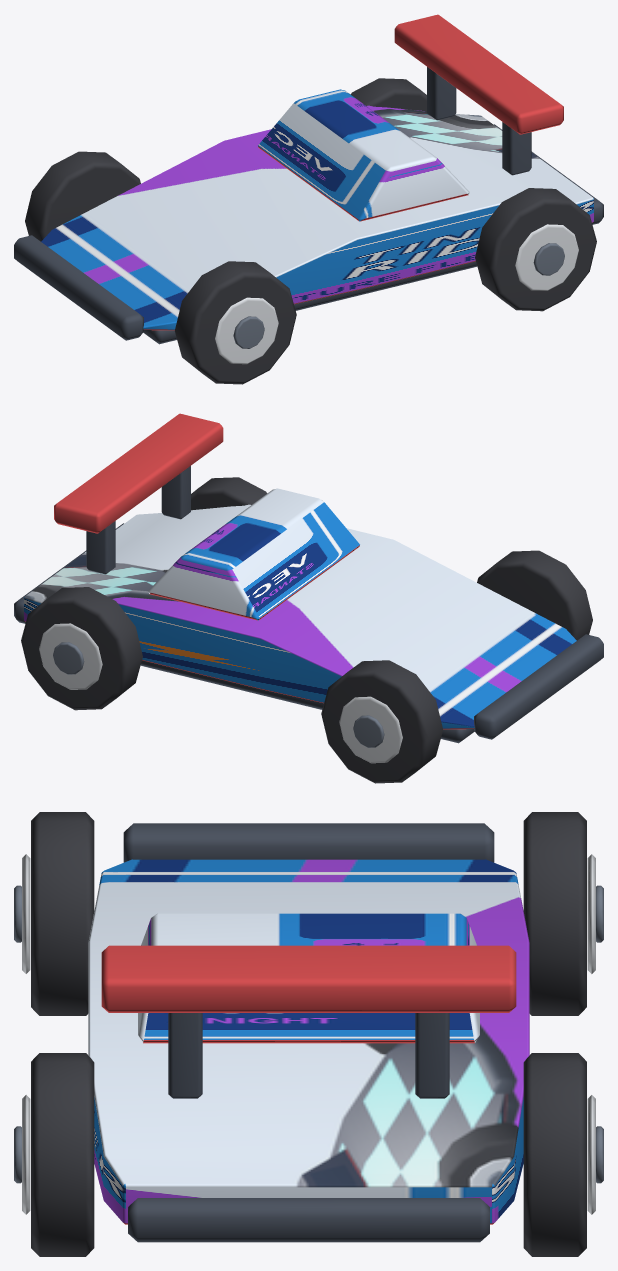
3 renders of one model, top to bottom at view 1: azimuth 30°, elevation 25°; view 2: azimuth 150°, elevation 25°; view 3: azimuth 270°, elevation 25°, orthographic. The views are drawn at different scales.
Parts seen in each view (by area): view 1: FF-05_connected_shell, FF-05_cabin, rear airfoil, Tire.002, Tire, Tire.001, front bumper, Rim.002, Rim, Tire.003, underbody, wing support (+3 smaller); view 2: FF-05_connected_shell, FF-05_cabin, rear airfoil, Tire.003, Tire.001, Tire, front bumper, Rim.003, Rim.001, Tire.002, underbody, wing support.001 (+3 smaller); view 3: FF-05_connected_shell, rear airfoil, FF-05_cabin, rear bumper, front bumper, Tire.002, Tire.003, Tire, Tire.001, wing support, wing support.001, Rim (+3 smaller).
Part boxes in pixels (x1,y1,x2,y2): FF-05_connected_shell: [41, 105, 593, 330]; FF-05_cabin: [258, 89, 469, 221]; rear airfoil: [394, 14, 563, 134]; Tire.002: [475, 188, 596, 311]; Tire: [175, 261, 296, 384]; Tire.001: [25, 151, 140, 241]; front bumper: [14, 235, 143, 340]; Rim.002: [515, 224, 578, 290]; Rim: [215, 297, 278, 364]; Tire.003: [350, 78, 426, 111]; underbody: [143, 261, 477, 344]; wing support: [502, 122, 531, 175]; FF-05_connected_shell: [24, 504, 576, 729]; FF-05_cabin: [148, 488, 359, 620]; rear airfoil: [54, 413, 223, 533]; Tire.003: [21, 587, 142, 710]; Tire.001: [321, 660, 442, 783]; Tire: [477, 550, 592, 640]; front bumper: [474, 634, 603, 739]; Rim.003: [39, 623, 102, 689]; Rim.001: [339, 696, 402, 763]; Tire.002: [191, 477, 267, 510]; underbody: [140, 660, 474, 743]; wing support.001: [86, 521, 115, 574]; FF-05_connected_shell: [88, 859, 529, 1224]; rear airfoil: [101, 945, 516, 1012]; FF-05_cabin: [138, 913, 479, 1043]; rear bumper: [128, 1198, 489, 1242]; front bumper: [123, 823, 494, 862]; Tire.002: [31, 1053, 94, 1256]; Tire.003: [523, 1053, 586, 1256]; Tire: [31, 812, 94, 1015]; Tire.001: [523, 812, 586, 1015]; wing support: [168, 1013, 202, 1098]; wing support.001: [415, 1013, 449, 1098]; Rim: [22, 854, 30, 973].
Size of the model in its own units: 377 by 136 by 242.
